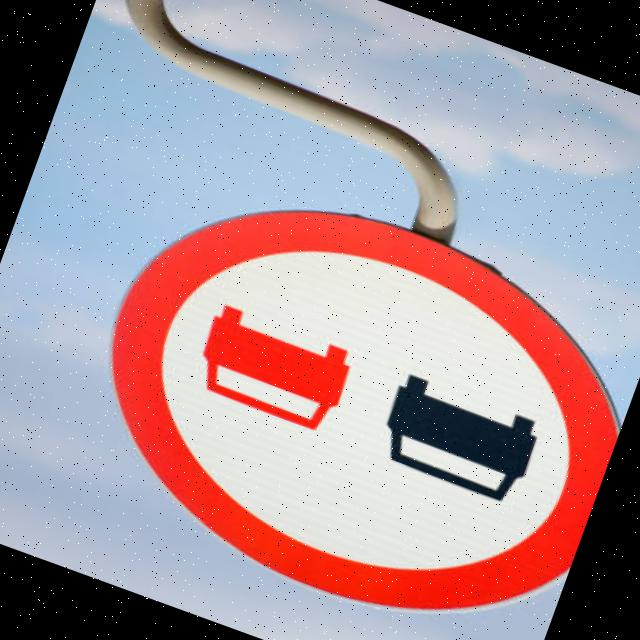no_passing: (23, 122, 640, 640)
